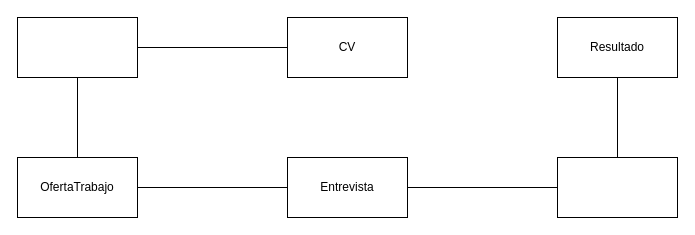
Some shapes in this 695 by 235 pixel diagram are drawn without their labels. The shapes that lost their labels are listed below. From the top down, each one's centre as x and y in pixels, then its label:
point (77, 47): Postulante
point (617, 187): Evaluacion
